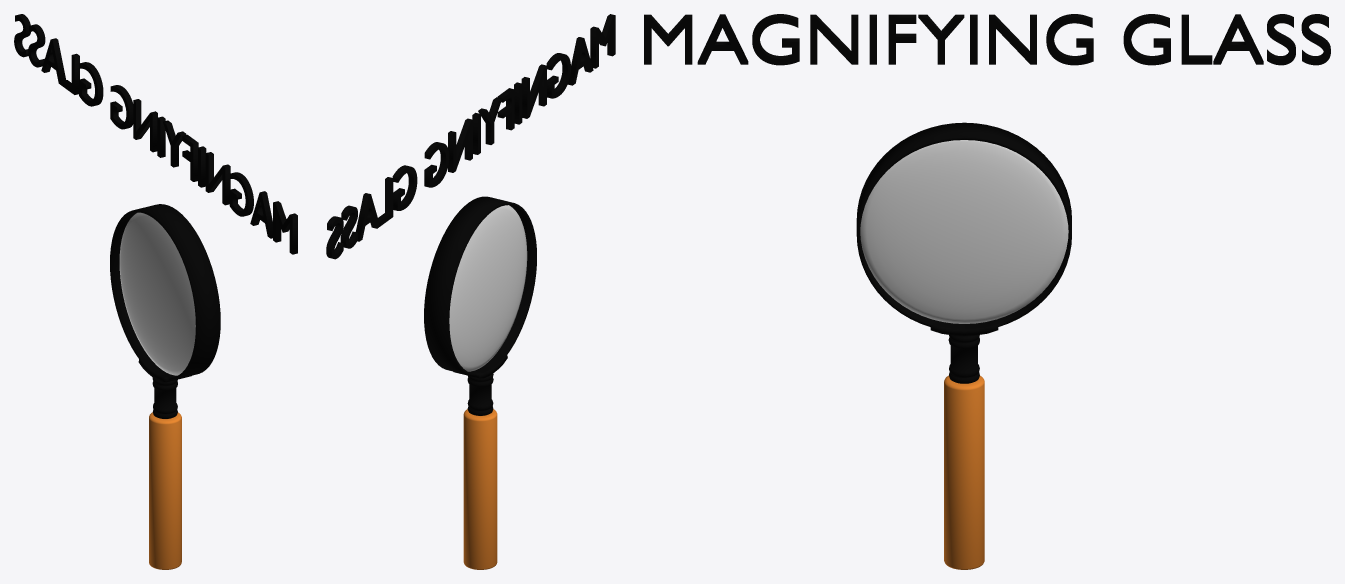
File: magnifying glass.gltf
The picture shows the model from 3 angles, left to right: view 1: azimuth 30°, elevation 25°; view 2: azimuth 150°, elevation 25°; view 3: azimuth 270°, elevation 25°; orthographic projection. The views are drawn at different scales.
Parts seen in each view (by area): view 1: MagnifyingGlass, Text; view 2: MagnifyingGlass, Text; view 3: MagnifyingGlass, Text.
Boxes of the visible parts, x1=… form: MagnifyingGlass: x1=110, y1=204, x2=220, y2=569; Text: x1=14, y1=14, x2=297, y2=254; MagnifyingGlass: x1=424, y1=196, x2=536, y2=569; Text: x1=326, y1=14, x2=615, y2=259; MagnifyingGlass: x1=856, y1=122, x2=1071, y2=569; Text: x1=644, y1=14, x2=1330, y2=65.
Size of the model in its own units: 0.1163 by 1.72 by 1.96.
